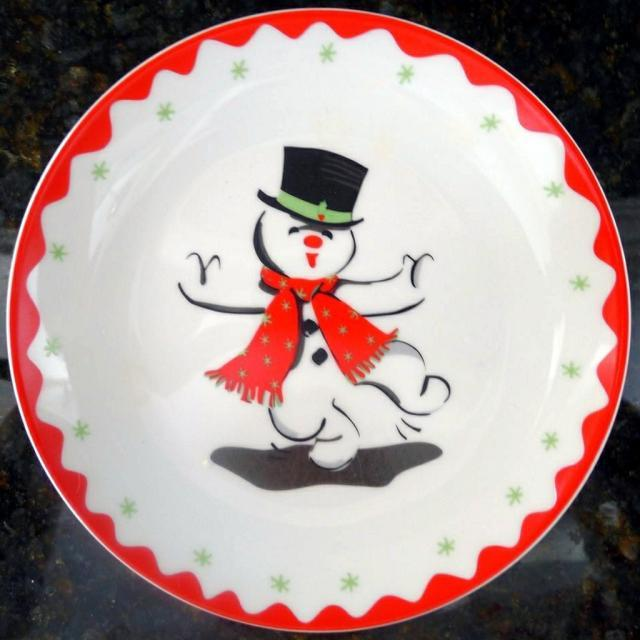ceramic plate: (20, 11, 640, 640)
